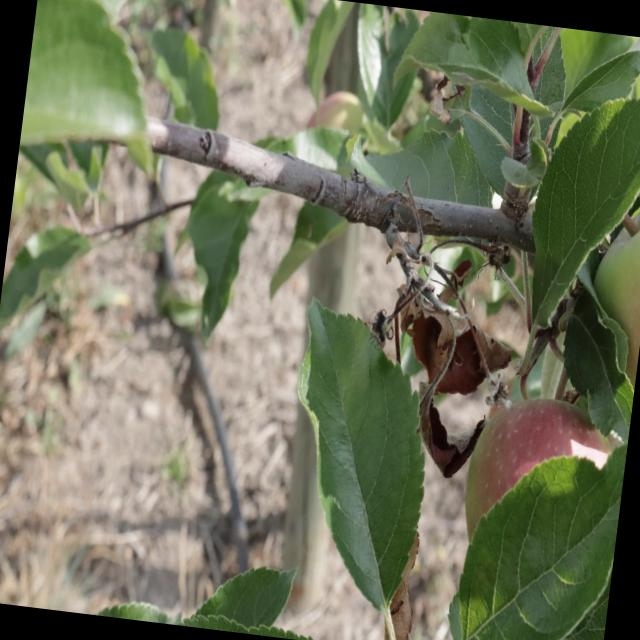-FireBlight-: (321, 198, 539, 478)
